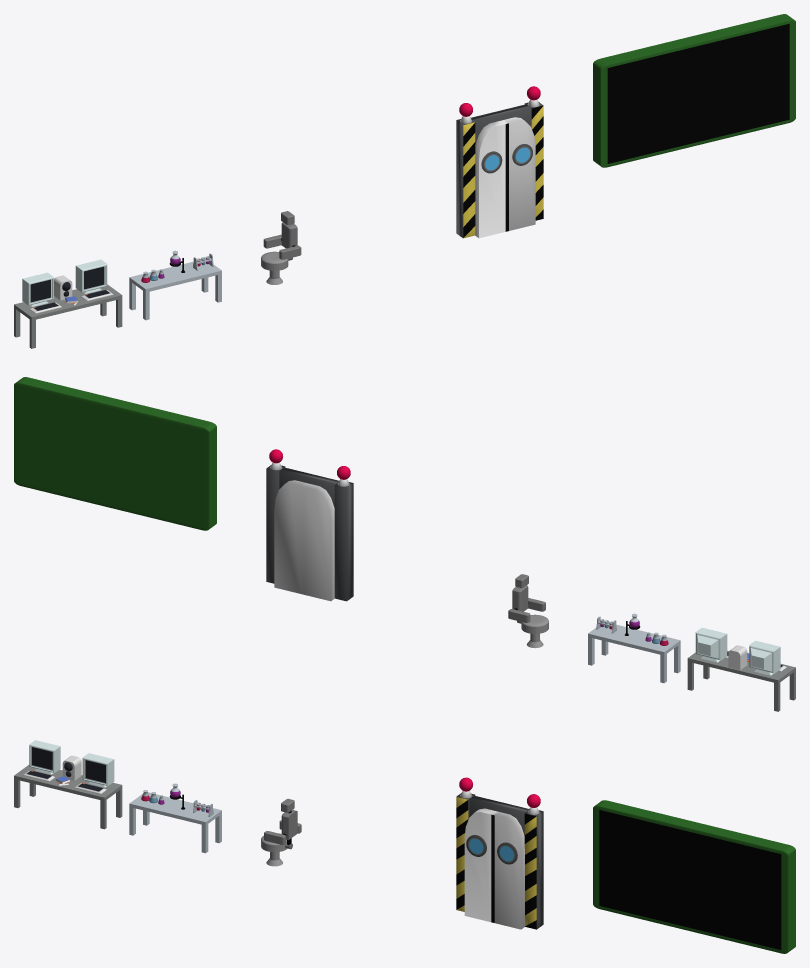
Rendered from futurelab1.fbx.
3 views of the same model, one above another, from view 1: azimuth 30°, elevation 25°; view 2: azimuth 150°, elevation 25°; view 3: azimuth 330°, elevation 25° (orthographic).
Parts seen in each view (by area): view 1: blackboard, spacedoor, table, table2, chair; view 2: blackboard, spacedoor, table, table2, chair; view 3: blackboard, spacedoor, table, table2, chair.
Boxes of the visible parts, x1,y1,x2,y2 form: blackboard: (593,14,795,167); spacedoor: (456,86,543,238); table: (14,259,122,348); table2: (129,250,221,320); chair: (261,211,301,284); blackboard: (14,377,216,530); spacedoor: (266,449,353,601); table: (687,627,795,711); table2: (588,613,680,683); chair: (508,574,548,648); blackboard: (593,800,795,953); spacedoor: (456,777,543,929); table: (14,740,122,829); table2: (129,783,221,853); chair: (261,798,301,866).
Bounding box in the file's own units: 12665 × 2199 × 562.
